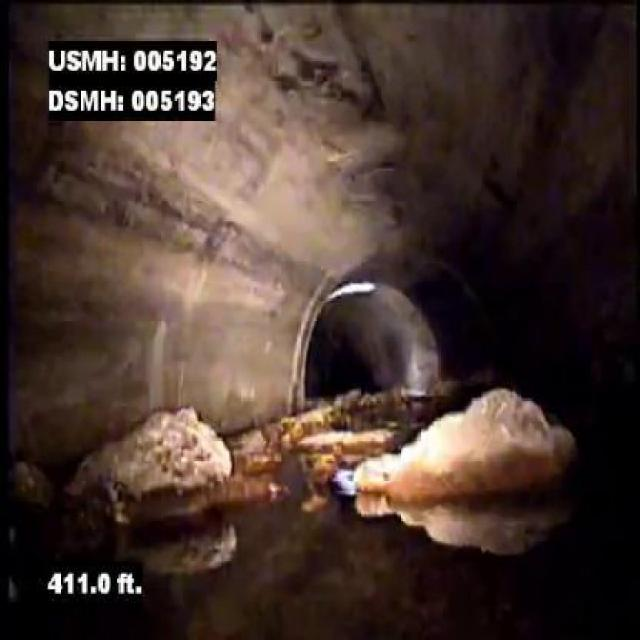Obstacle: (349, 386, 582, 503), (68, 399, 237, 503)
